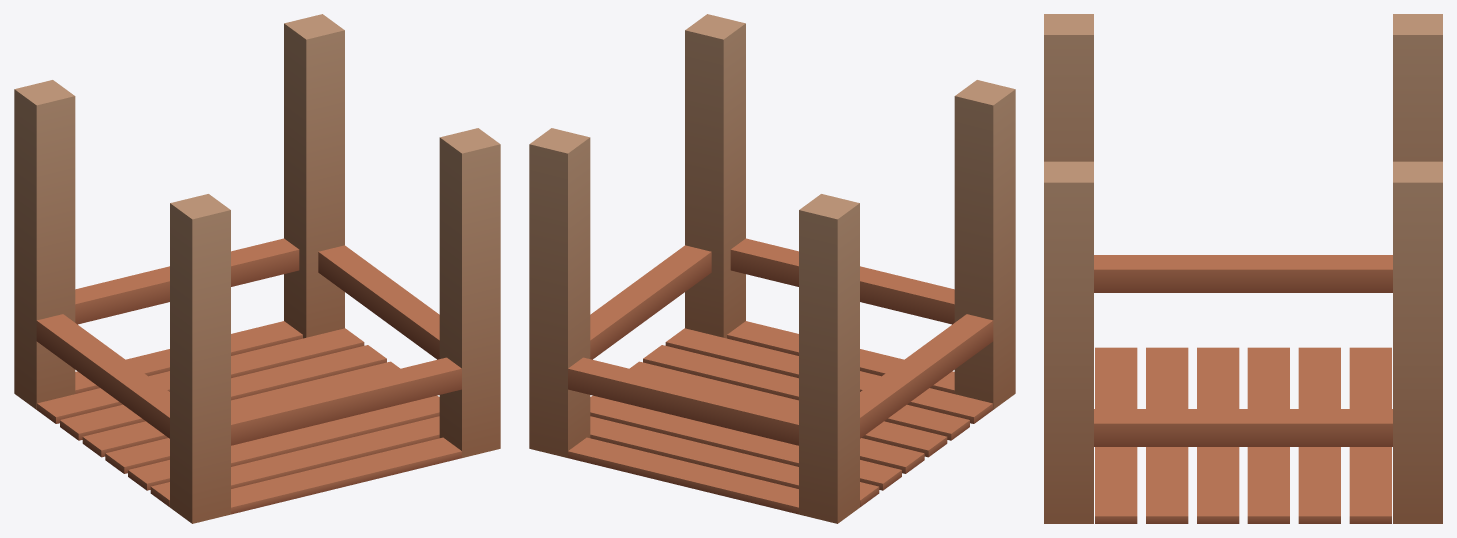
Rendered from tower-square-mid-open-simple.glb.
3 views of the same model, side by side, from view 1: azimuth 30°, elevation 25°; view 2: azimuth 150°, elevation 25°; view 3: azimuth 270°, elevation 25° (orthographic). The views are drawn at different scales.
Parts seen in each view (by area): view 1: tower-square-mid-open-simple; view 2: tower-square-mid-open-simple; view 3: tower-square-mid-open-simple.
Part boxes in pixels (x1,y1,x2,y2): tower-square-mid-open-simple: (14,14,500,523); tower-square-mid-open-simple: (529,14,1015,523); tower-square-mid-open-simple: (1044,14,1442,523).
Size of the model in its own units: 0.93 by 0.8782 by 0.93.
